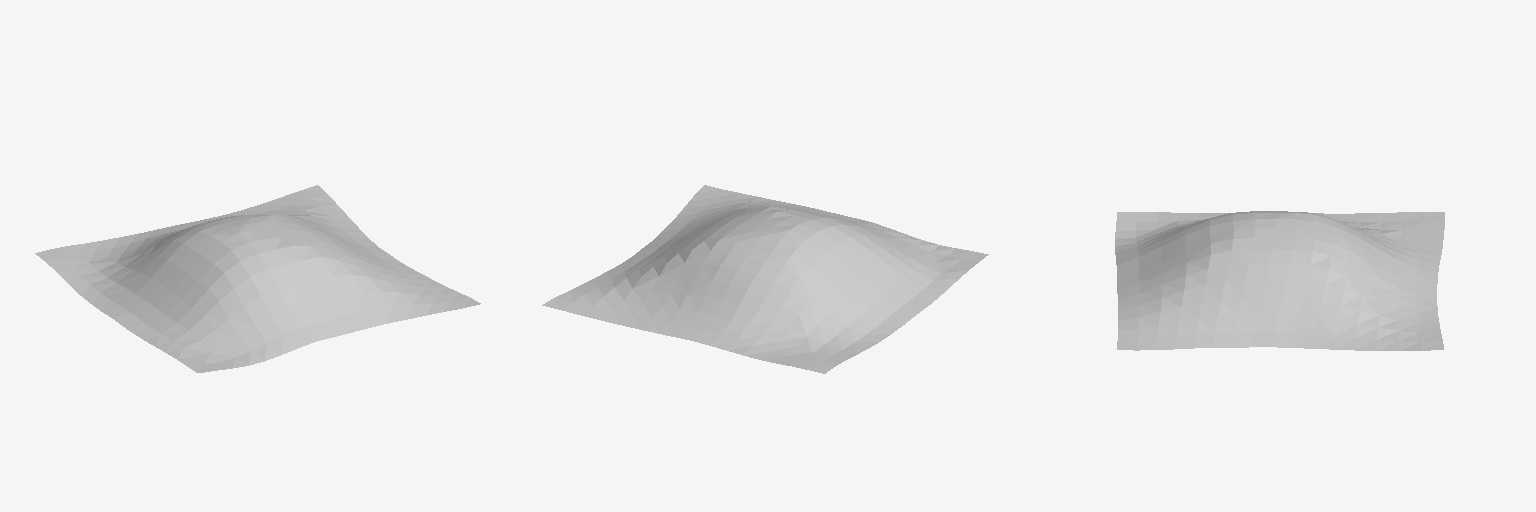
Rendered from cinzas.obj.
3 views of the same model, side by side, from view 1: azimuth 30°, elevation 25°; view 2: azimuth 150°, elevation 25°; view 3: azimuth 270°, elevation 25° (orthographic).
Visible parts, largest first — view 1: Plane; view 2: Plane; view 3: Plane.
Boxes of the visible parts, <box> form: Plane: <box>35,185,480,372</box>; Plane: <box>542,185,988,373</box>; Plane: <box>1115,211,1444,350</box>.
Size of the model in its own units: 1.18 by 0.2233 by 1.17.